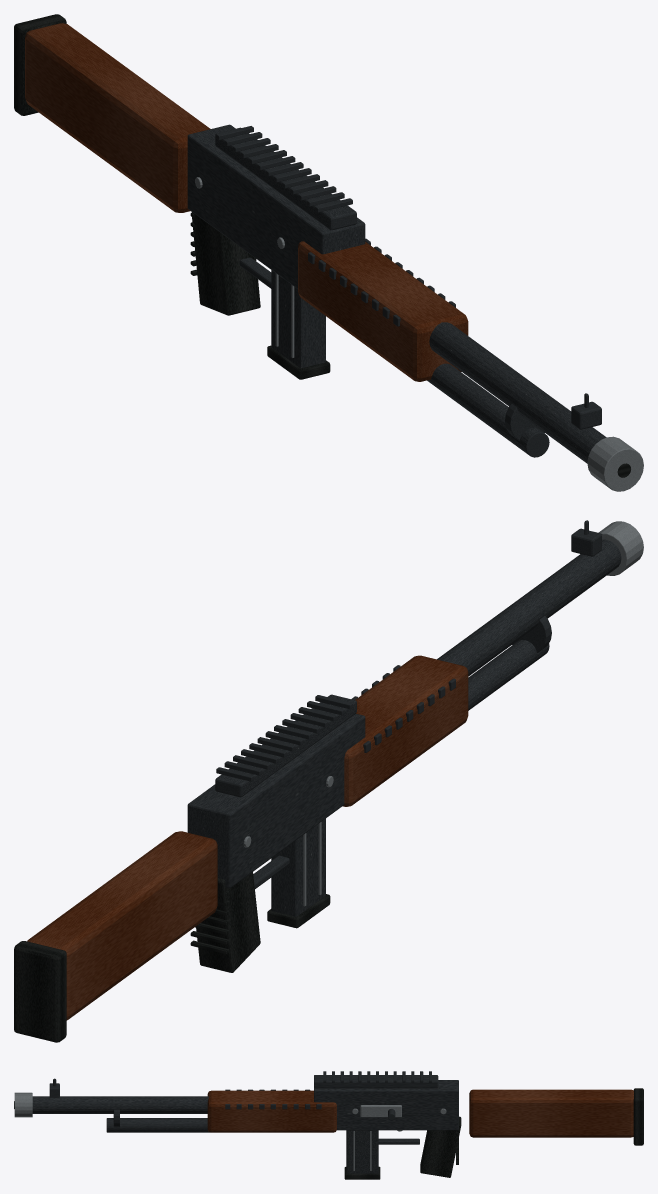
3 views of the same model, one above another, from view 1: azimuth 30°, elevation 25°; view 2: azimuth 150°, elevation 25°; view 3: azimuth 270°, elevation 25° (orthographic). The views are drawn at different scales.
Parts seen in each view (by area): view 1: W_D12_M_V14Wood, W_D12_M_V14Metal, W_D12_M_V14Polymer, W_D12_Mag_M_V14Metal, W_D12_M_V14Steel, W_D12_Mag_M_V14Polymer; view 2: W_D12_M_V14Metal, W_D12_M_V14Wood, W_D12_M_V14Polymer, W_D12_Mag_M_V14Metal, W_D12_M_V14Steel, W_D12_Mag_M_V14Polymer; view 3: W_D12_M_V14Wood, W_D12_M_V14Metal, W_D12_M_V14Polymer, W_D12_Mag_M_V14Metal, W_D12_M_V14Steel, W_D12_Bolt_M_V14Steel, W_D12_Mag_M_V14Polymer.
Part boxes in pixels (x1,y1,x2,y2): W_D12_M_V14Wood: [25, 23, 468, 381]; W_D12_M_V14Metal: [187, 124, 606, 463]; W_D12_M_V14Polymer: [14, 14, 630, 477]; W_D12_Mag_M_V14Metal: [271, 270, 325, 368]; W_D12_M_V14Steel: [195, 177, 643, 491]; W_D12_Mag_M_V14Polymer: [267, 345, 330, 379]; W_D12_M_V14Metal: [187, 520, 621, 888]; W_D12_M_V14Wood: [27, 655, 468, 1020]; W_D12_M_V14Polymer: [14, 872, 260, 1042]; W_D12_Mag_M_V14Metal: [271, 818, 325, 916]; W_D12_M_V14Steel: [243, 521, 643, 847]; W_D12_Mag_M_V14Polymer: [267, 894, 330, 928]; W_D12_M_V14Wood: [207, 1089, 633, 1137]; W_D12_M_V14Metal: [32, 1071, 458, 1144]; W_D12_M_V14Polymer: [14, 1088, 643, 1177]; W_D12_Mag_M_V14Metal: [346, 1130, 378, 1173]; W_D12_M_V14Steel: [14, 1092, 446, 1131]; W_D12_Bolt_M_V14Steel: [360, 1105, 401, 1117]; W_D12_Mag_M_V14Polymer: [344, 1166, 380, 1179].
Bounding box in the file's own units: 9 × 21.35 × 122.
